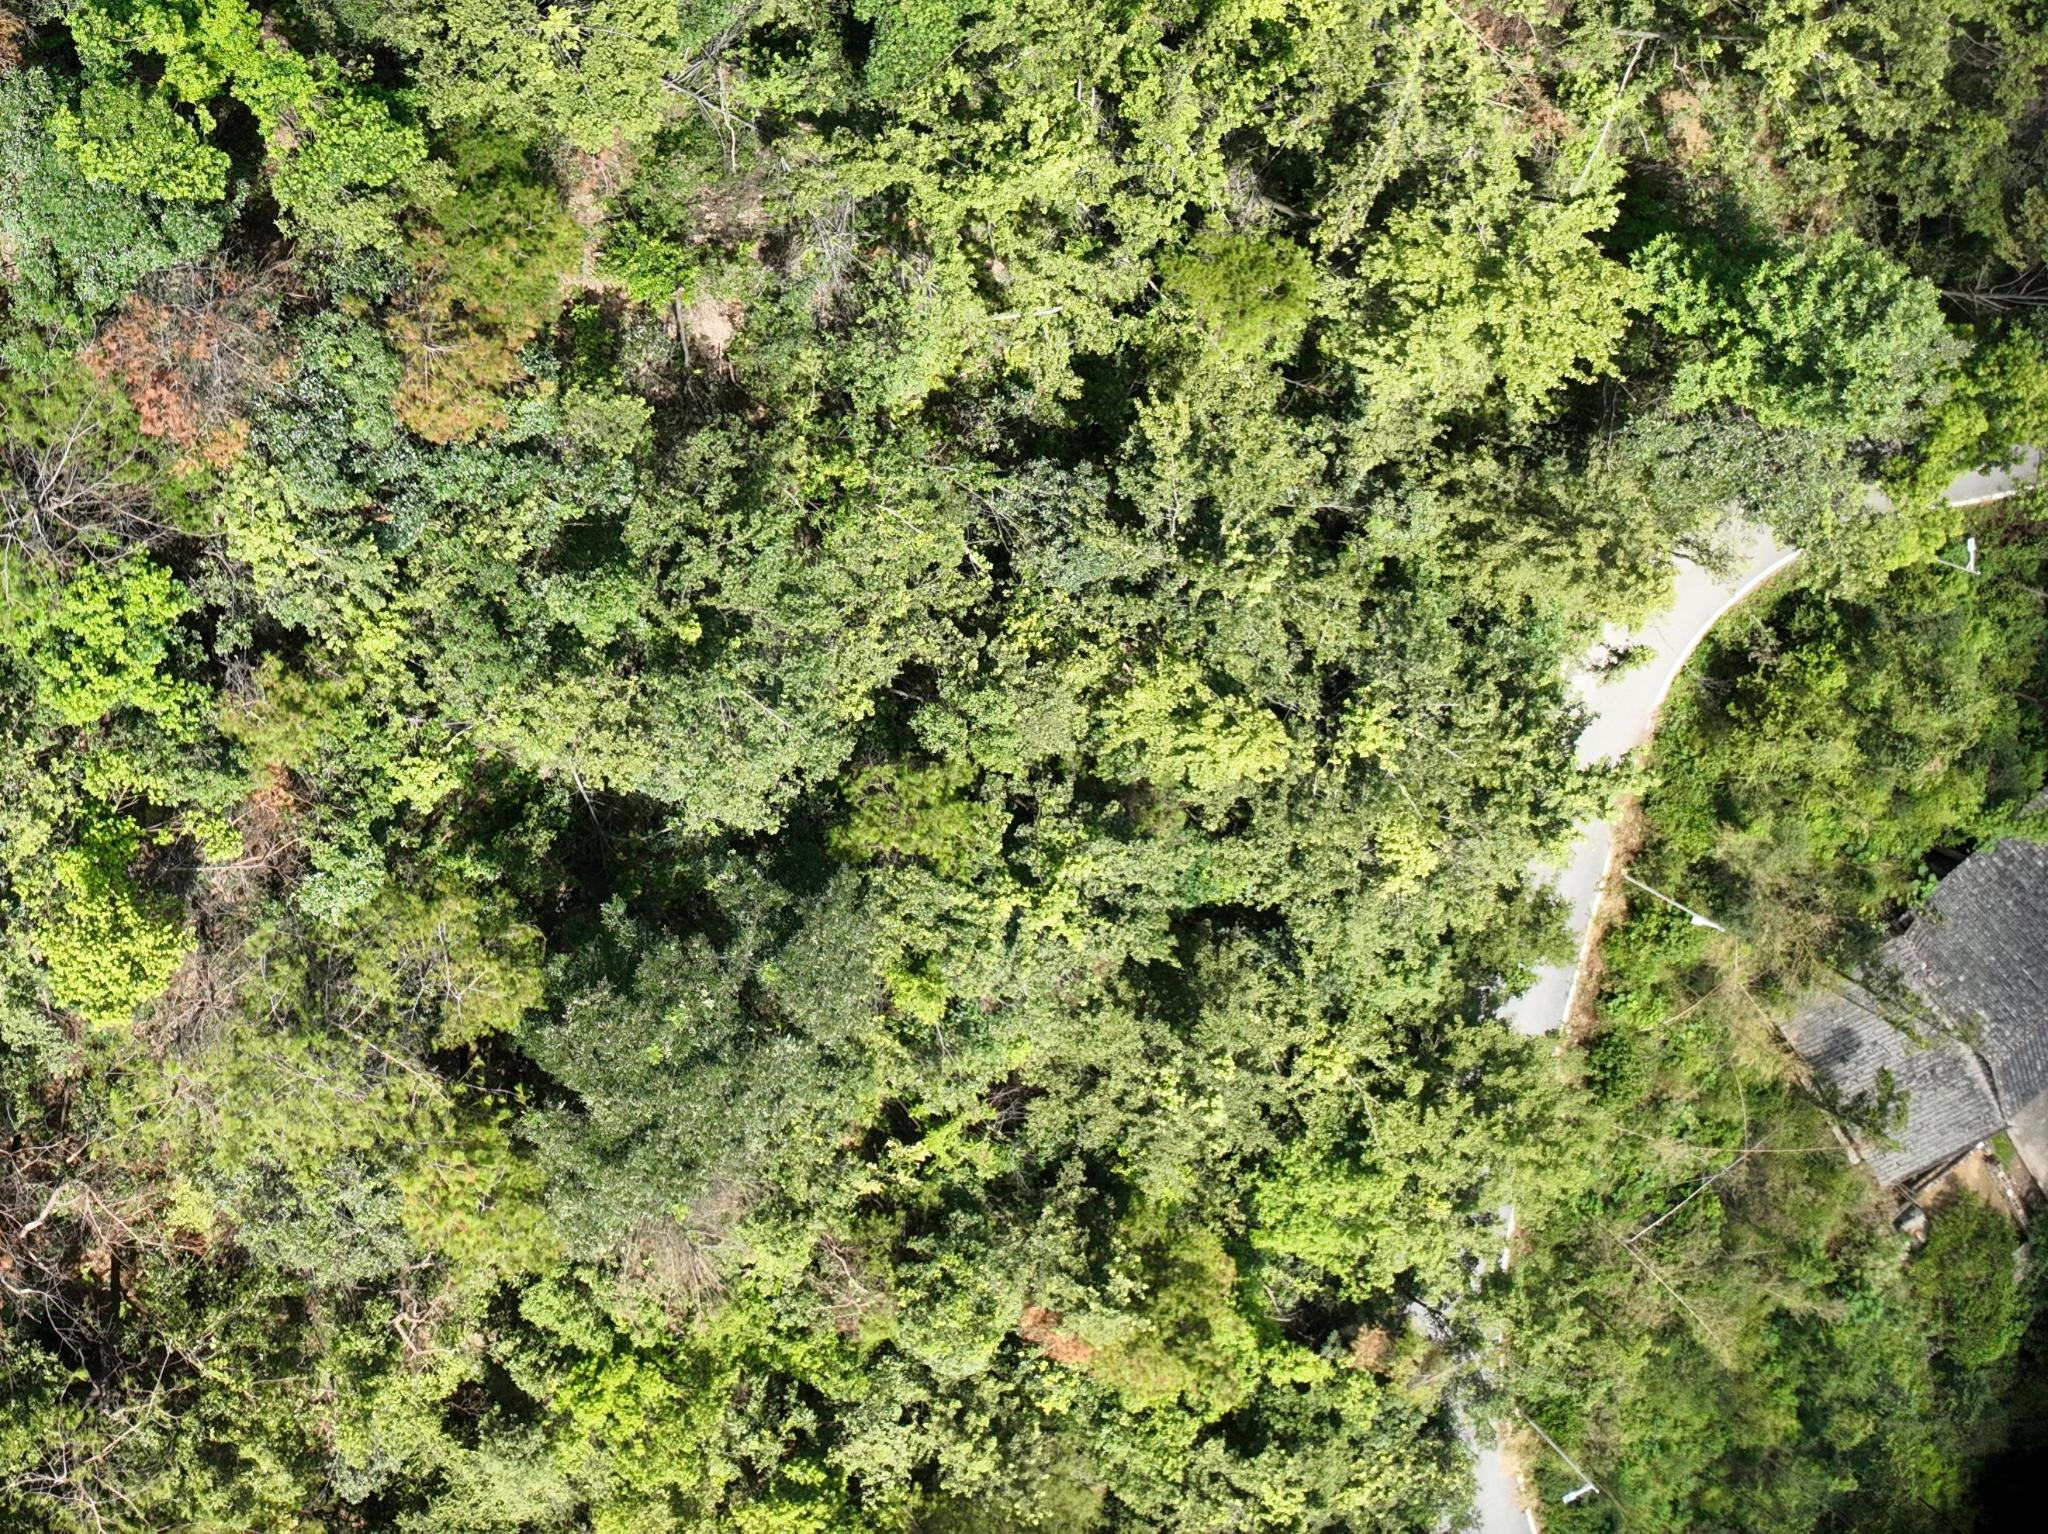heavy: (73, 253, 300, 467), (8, 1136, 142, 1302), (1015, 1304, 1092, 1371)
light: (358, 232, 530, 450)
